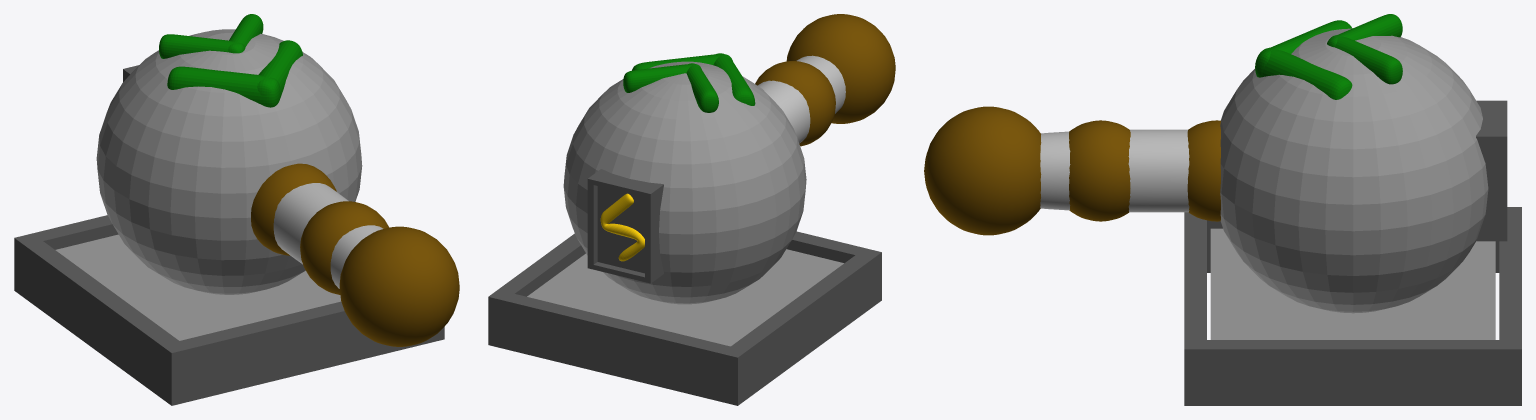
File: Electric Turret.fbx
3 renders of one model, left to right at view 1: azimuth 30°, elevation 25°; view 2: azimuth 150°, elevation 25°; view 3: azimuth 270°, elevation 25°, orthographic. The views are drawn at different scales.
Parts seen in each view (by area): view 1: Sphere, Cube.006, Sphere.003, Cube.005, Cube, Sphere.002, Cube.009, Sphere.001, Cube.008; view 2: Sphere, Cube.006, Cube.005, Sphere.003, Cube.003, Sphere.002, Cube.001, Cube, Cube.008, Cube.009, Cube.002; view 3: Sphere, Cube.006, Cube.005, Sphere.003, Cube, Sphere.002, Cube.003, Sphere.001, Cube.009, Cube.008.
Boxes of the visible parts, left/top/right/bottom form: Sphere: left=96, top=29, right=362, bottom=294; Cube.006: left=14, top=215, right=444, bottom=405; Sphere.003: left=339, top=226, right=459, bottom=346; Cube.005: left=55, top=234, right=341, bottom=340; Cube: left=273, top=183, right=383, bottom=288; Sphere.002: left=300, top=201, right=389, bottom=294; Cube.009: left=167, top=40, right=302, bottom=107; Sphere.001: left=251, top=163, right=336, bottom=255; Cube.008: left=159, top=14, right=263, bottom=58; Sphere: left=563, top=61, right=806, bottom=304; Cube.006: left=488, top=231, right=881, bottom=405; Cube.005: left=527, top=249, right=843, bottom=346; Sphere.003: left=786, top=14, right=895, bottom=123; Cube.003: left=587, top=169, right=663, bottom=283; Sphere.002: left=755, top=61, right=835, bottom=146; Cube.001: left=597, top=186, right=644, bottom=273; Cube: left=757, top=55, right=845, bottom=143; Cube.008: left=623, top=63, right=718, bottom=112; Cube.009: left=632, top=53, right=755, bottom=105; Cube.002: left=600, top=193, right=644, bottom=261; Sphere: left=1220, top=28, right=1488, bottom=313; Cube.006: left=1184, top=207, right=1521, bottom=405; Cube.005: left=1210, top=228, right=1495, bottom=339; Sphere.003: left=924, top=106, right=1041, bottom=235; Cube: left=1040, top=129, right=1189, bottom=212; Sphere.002: left=1069, top=120, right=1130, bottom=221; Cube.003: left=1476, top=100, right=1507, bottom=241; Sphere.001: left=1187, top=120, right=1220, bottom=221; Cube.009: left=1255, top=20, right=1352, bottom=99; Cube.008: left=1327, top=14, right=1402, bottom=84.
Size of the model in its own units: 2.37 by 4.19 by 2.3.
